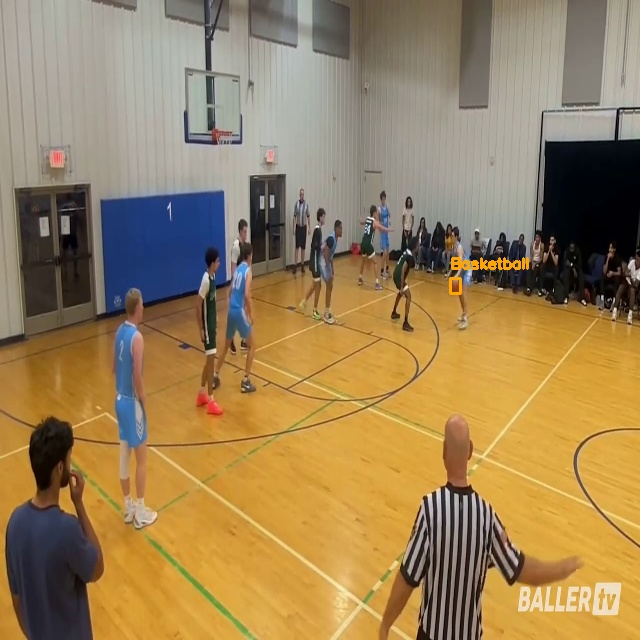Basketball: (450, 278, 460, 293)
